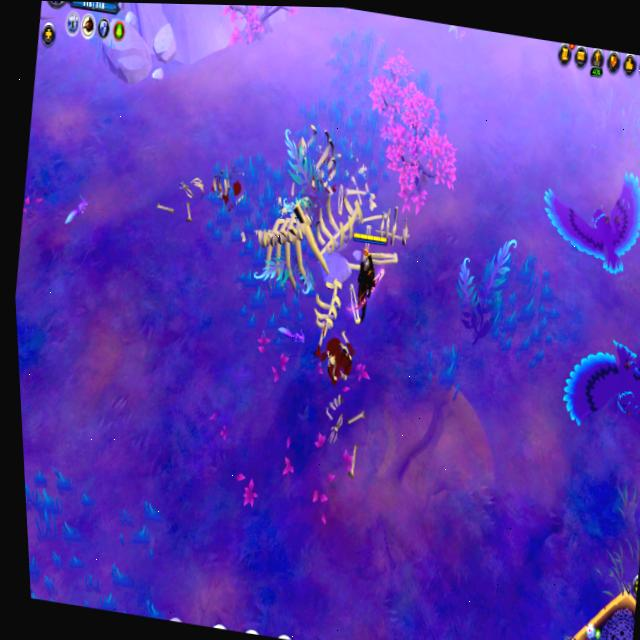red: (335, 227, 403, 340)
